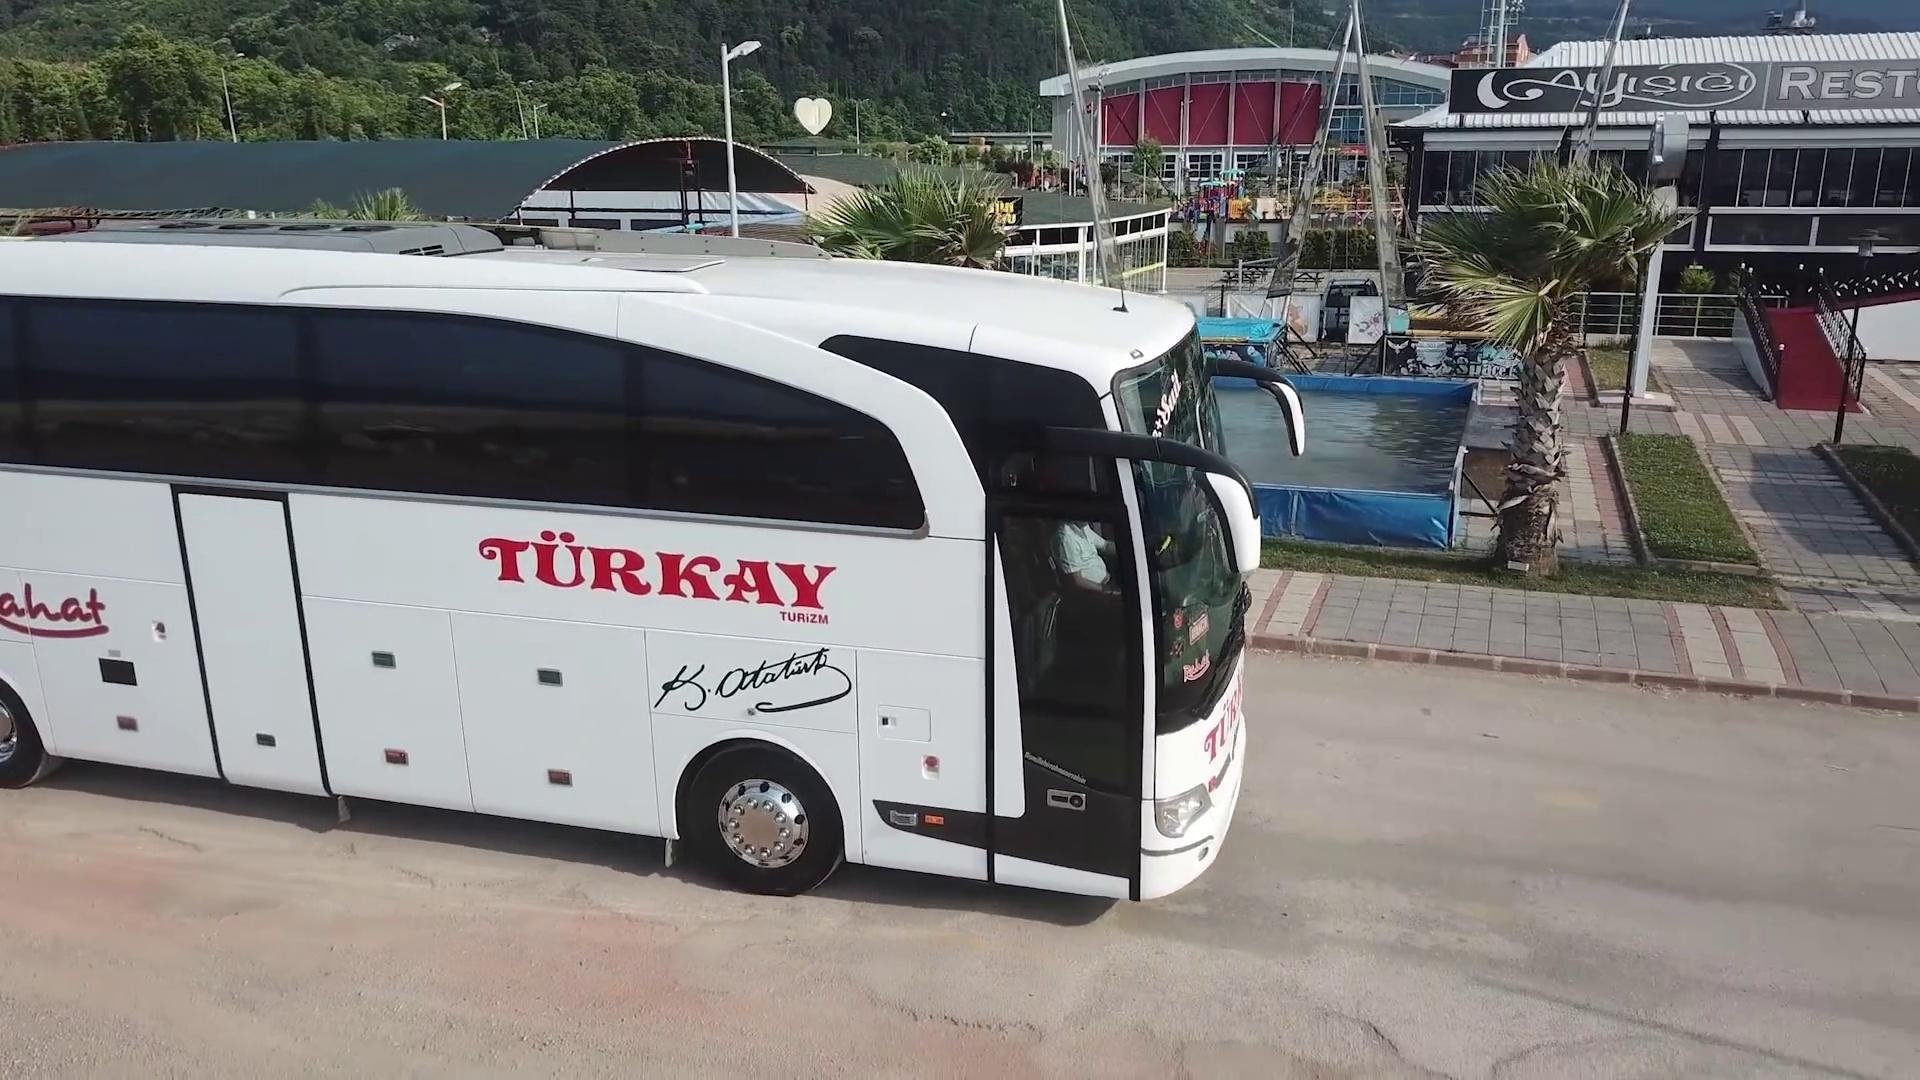Bus: (0, 214, 1304, 903)
